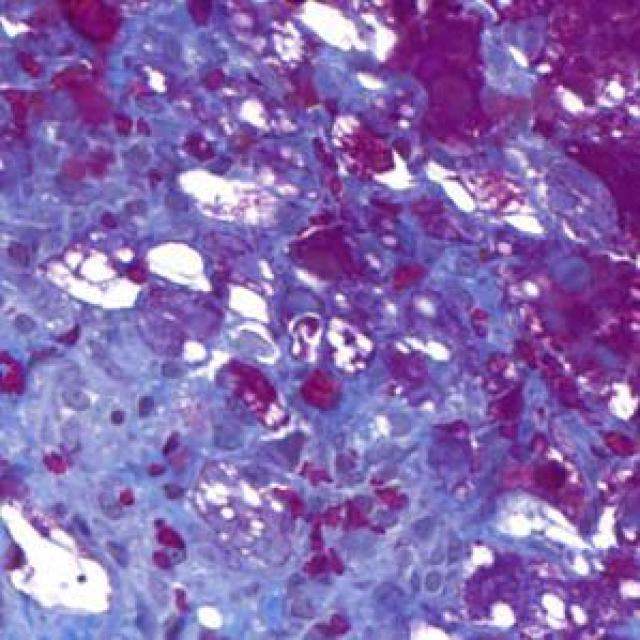ballooning: (8, 499, 118, 623), (36, 242, 148, 323)
